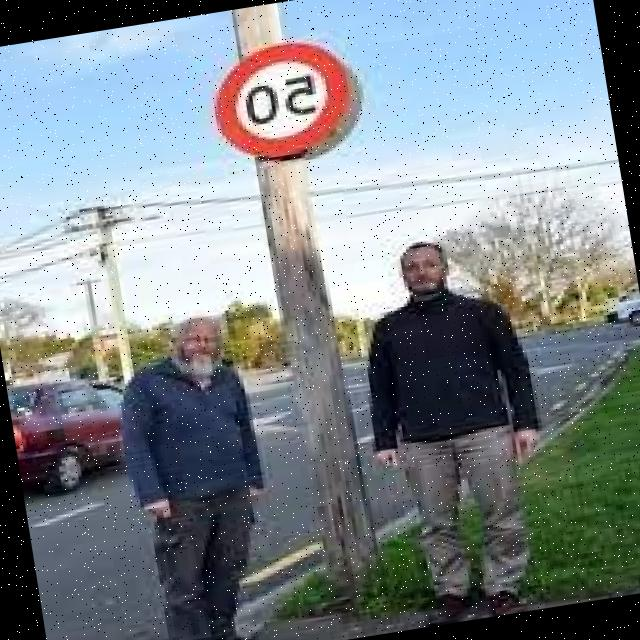speed_limit_50: (176, 25, 371, 182)
